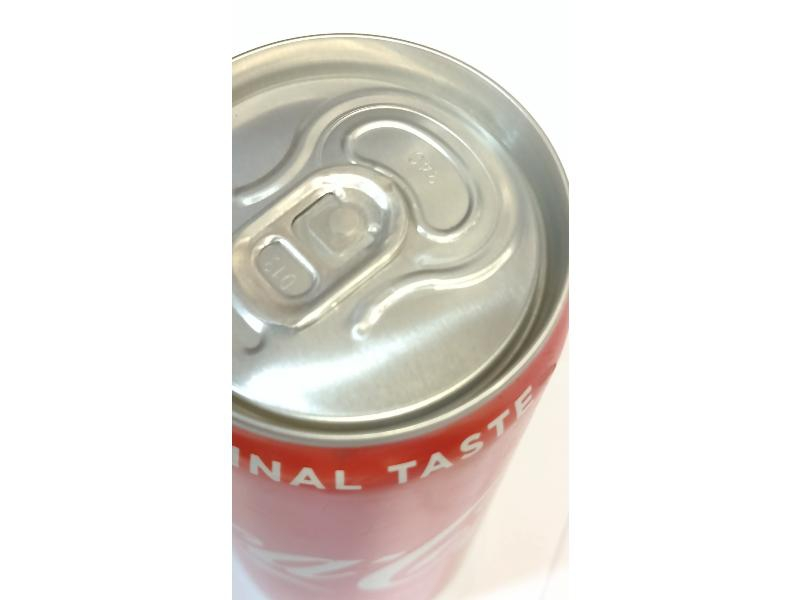can: (233, 32, 571, 598)
